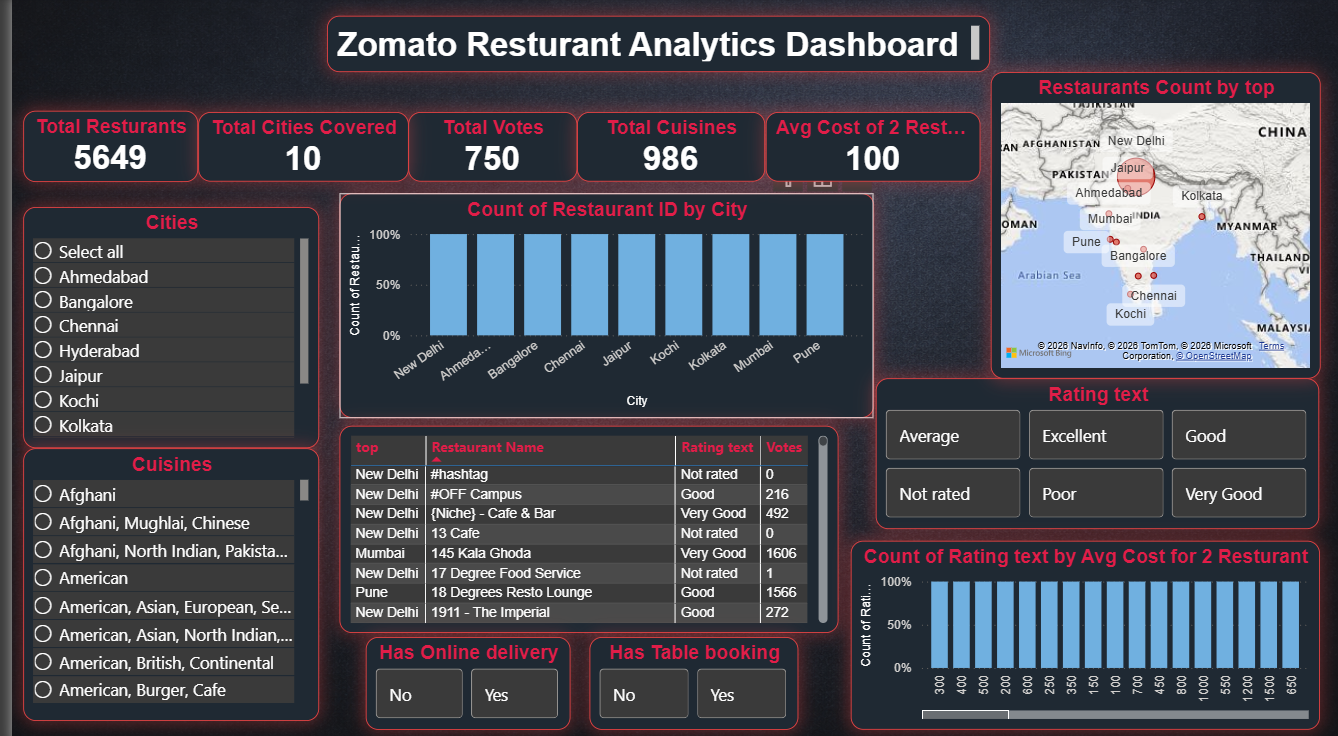

Layout of this report page (visuals, bound fields, positions):
{"tool":"powerbi","page":{"name":"Page 1","canvas":[1280,720],"ordinal":0},"visuals":[{"type":"card","title":"Total Resturants","fields":{"Values":["CountNonNull(zomato.Restaurant ID)"]},"box":[11.4,110,168.6,68.6],"z":0},{"type":"hundredPercentStackedColumnChart","fields":{"Category":["zomato.City"],"Y":["Count(zomato.Restaurant ID)"]},"box":[315.7,190,515.7,217.1],"z":1000},{"type":"listSlicer","title":"Cities","fields":{"Values":["zomato.City"]},"box":[11.4,202.9,285.7,232.9],"z":2000},{"type":"listSlicer","fields":{"Values":["zomato.Cuisines"]},"box":[10.9,435.5,285.9,263],"z":3000},{"type":"tableEx","fields":{"Values":["zomato.top","zomato.Restaurant Name","zomato.Rating text","zomato.Votes"]},"box":[316.1,413.8,481.4,200.3],"z":4000},{"type":"card","title":"Total Votes","fields":{"Values":["Count(zomato.Votes)"]},"box":[382.9,111.4,162.9,67.1],"z":5000},{"type":"card","title":"Total Cities Covered","fields":{"Values":["Count(zomato.City)"]},"box":[180,111.4,202.9,67.1],"z":6000},{"type":"card","title":"Total Cuisines","fields":{"Values":["Count(zomato.Cuisines)"]},"box":[545.7,111.4,181.4,67.1],"z":7000},{"type":"textbox","box":[304.3,18.6,640,54.3],"z":8000},{"type":"advancedSlicerVisual","fields":{"Values":["zomato.Has Online delivery"]},"box":[341.4,617.7,197.9,89.3],"z":9000},{"type":"advancedSlicerVisual","fields":{"Values":["zomato.Rating text"]},"box":[833.7,368,428.3,146],"z":10000},{"type":"map","fields":{"Size":["zomato.Restaurants Count"],"Category":["zomato.top"]},"box":[944.3,72.9,318.6,295.7],"z":11000},{"type":"hundredPercentStackedColumnChart","title":"Count of Rating text by Avg Cost for 2 Resturant","fields":{"Category":["zomato.Average Cost for two"],"Y":["CountNonNull(zomato.Rating text)"]},"box":[809.5,524.8,452.4,182.2],"z":12000},{"type":"advancedSlicerVisual","fields":{"Values":["zomato.Has Table booking"]},"box":[557.4,617.7,201.5,89.3],"z":13000},{"type":"card","title":"Avg Cost of 2 Resturant","fields":{"Values":["Min(zomato.Average Cost for two)"]},"box":[727.1,111.4,207.1,67.1],"z":14000}]}

Visuals, with their boxes in screenshot pixels (x1, y1, x2, y2), scaled from the page's 1280x720 canvas onto the 1338x736 screenshot:
"Total Resturants" card: <bbox>12, 112, 188, 183</bbox>
hundredPercentStackedColumnChart - zomato.City x Count(zomato.Restaurant ID): <bbox>330, 194, 869, 416</bbox>
"Cities" listSlicer: <bbox>12, 207, 311, 445</bbox>
listSlicer - zomato.Cuisines: <bbox>11, 445, 310, 714</bbox>
tableEx - zomato.top x zomato.Restaurant Name: <bbox>330, 423, 834, 628</bbox>
"Total Votes" card: <bbox>400, 114, 571, 182</bbox>
"Total Cities Covered" card: <bbox>188, 114, 400, 182</bbox>
"Total Cuisines" card: <bbox>570, 114, 760, 182</bbox>
textbox: <bbox>318, 19, 987, 75</bbox>
advancedSlicerVisual - zomato.Has Online delivery: <bbox>357, 631, 564, 723</bbox>
advancedSlicerVisual - zomato.Rating text: <bbox>871, 376, 1319, 525</bbox>
map - zomato.Restaurants Count x zomato.top: <bbox>987, 75, 1320, 377</bbox>
"Count of Rating text by Avg Cost for 2 Resturant" hundredPercentStackedColumnChart: <bbox>846, 536, 1319, 723</bbox>
advancedSlicerVisual - zomato.Has Table booking: <bbox>583, 631, 793, 723</bbox>
"Avg Cost of 2 Resturant" card: <bbox>760, 114, 977, 182</bbox>
